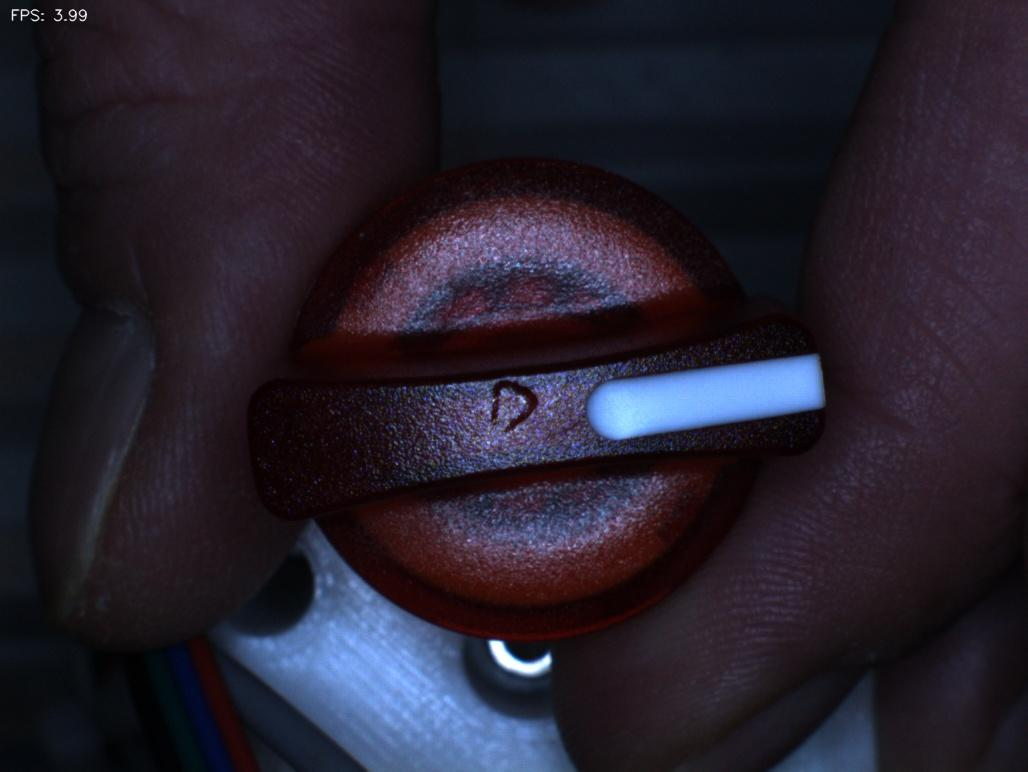Choc: (459, 366, 558, 453)
